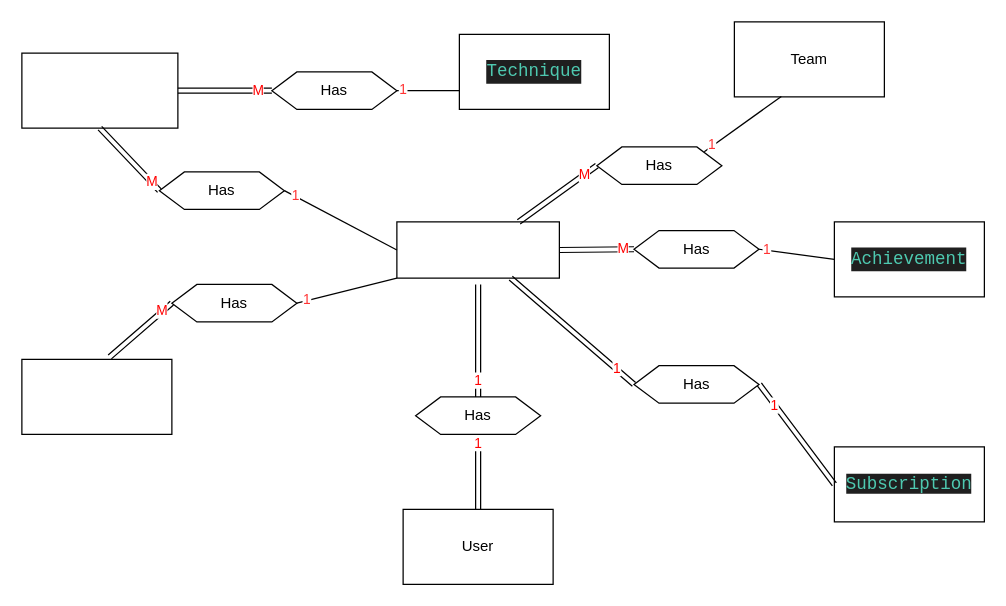
Image size: 1006x606. Some labels were removed from this diagram. Each missing label, with the centre of its shape:
Child: the point at 96,396
Technique_Rate: the point at 99,90
UserProfile: the point at 477,249
